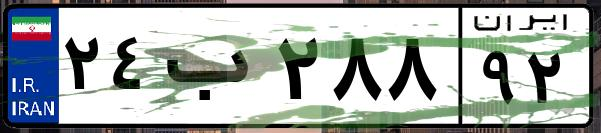2: (270, 28, 330, 110), (57, 26, 110, 100), (525, 38, 570, 115)
4: (110, 28, 158, 98)
8: (385, 28, 445, 110), (330, 28, 385, 110)
9: (475, 38, 525, 113)
ب: (158, 20, 270, 120)
